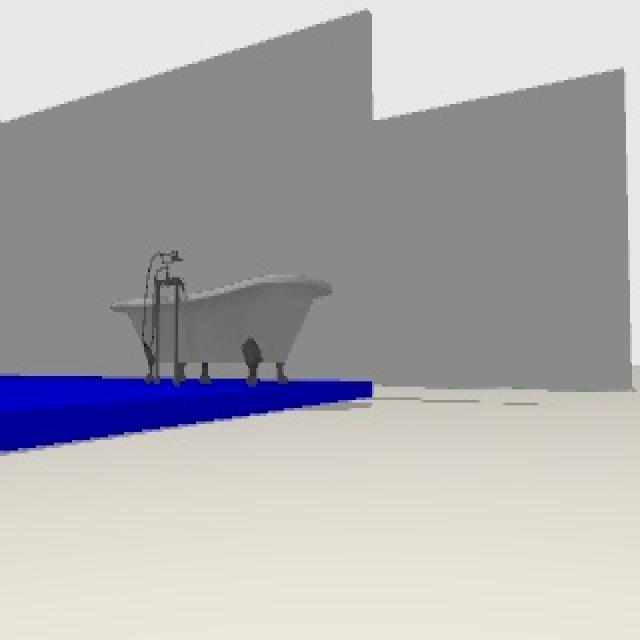bathtub: (114, 249, 329, 383)
